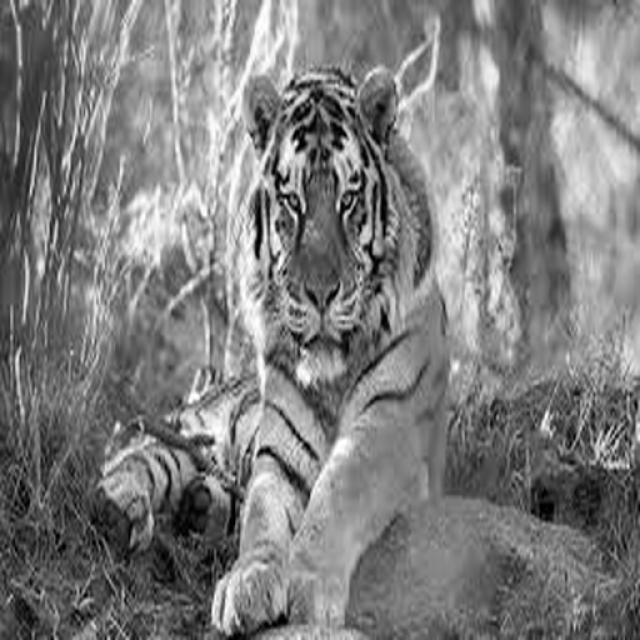Tiger: (126, 33, 443, 533)
